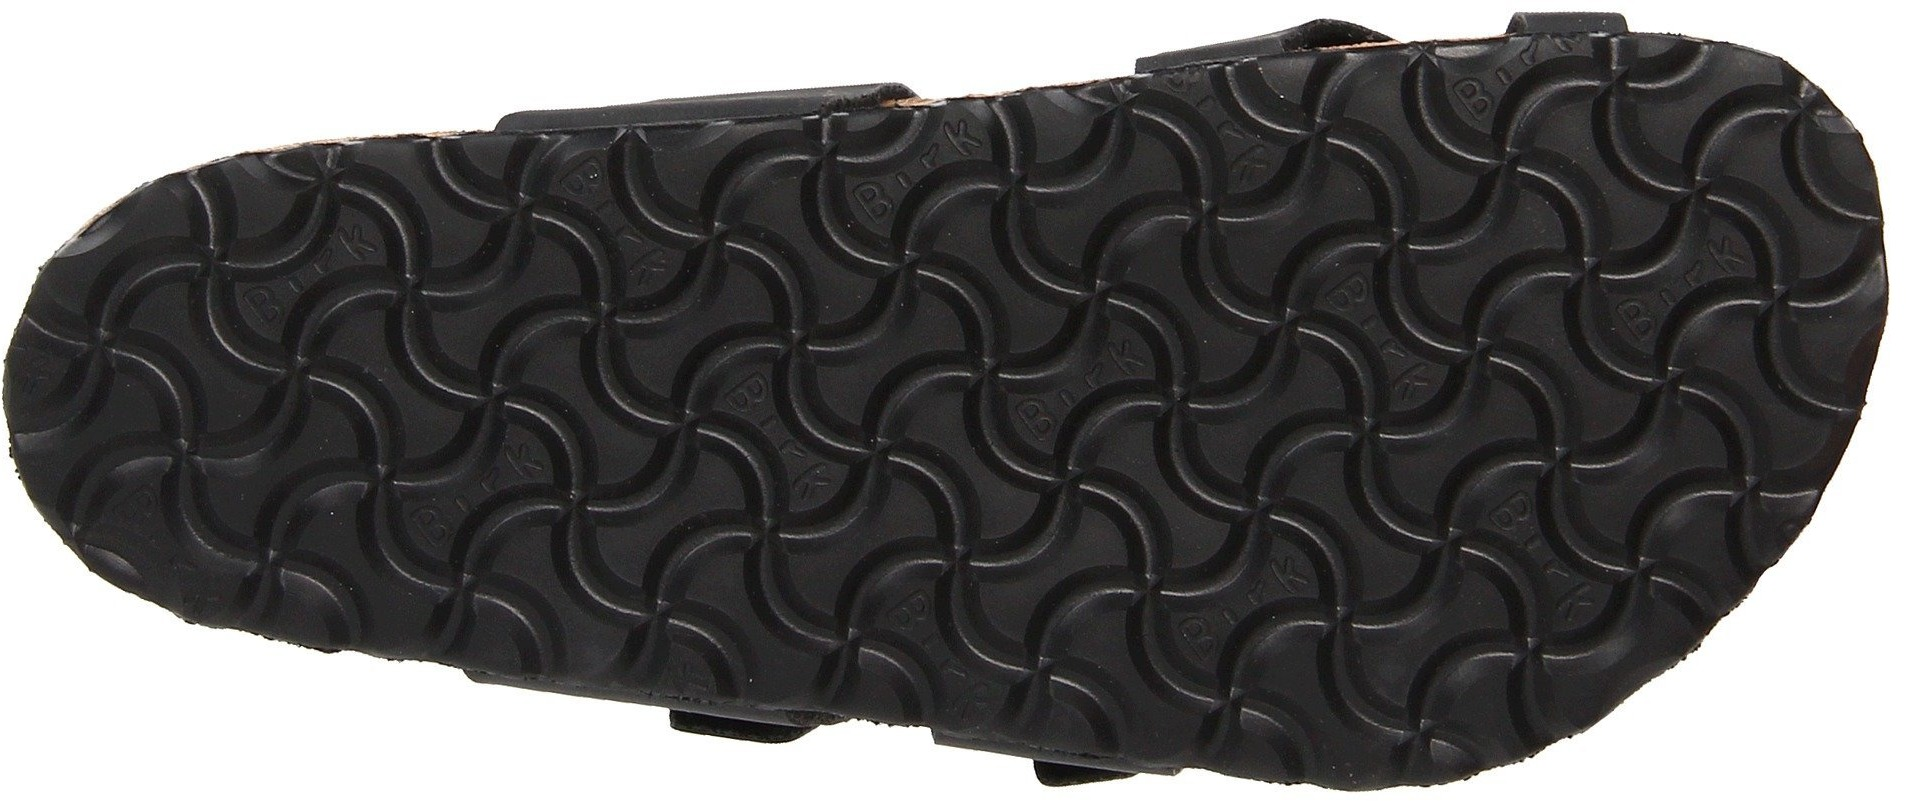bowtie: (1130, 414, 1453, 726), (1427, 60, 1725, 378), (1111, 88, 1410, 397), (312, 146, 591, 431), (844, 123, 1103, 401), (593, 400, 857, 641), (865, 410, 1120, 659), (594, 132, 831, 393), (1464, 390, 1709, 624), (73, 246, 311, 476), (317, 441, 532, 638), (1739, 194, 1880, 349)
text: (1130, 414, 1453, 726), (1427, 60, 1725, 378), (1111, 88, 1410, 397), (312, 146, 591, 431), (844, 123, 1103, 401), (593, 400, 857, 641), (865, 410, 1120, 659), (594, 132, 831, 393), (73, 246, 311, 476), (317, 441, 532, 638)
